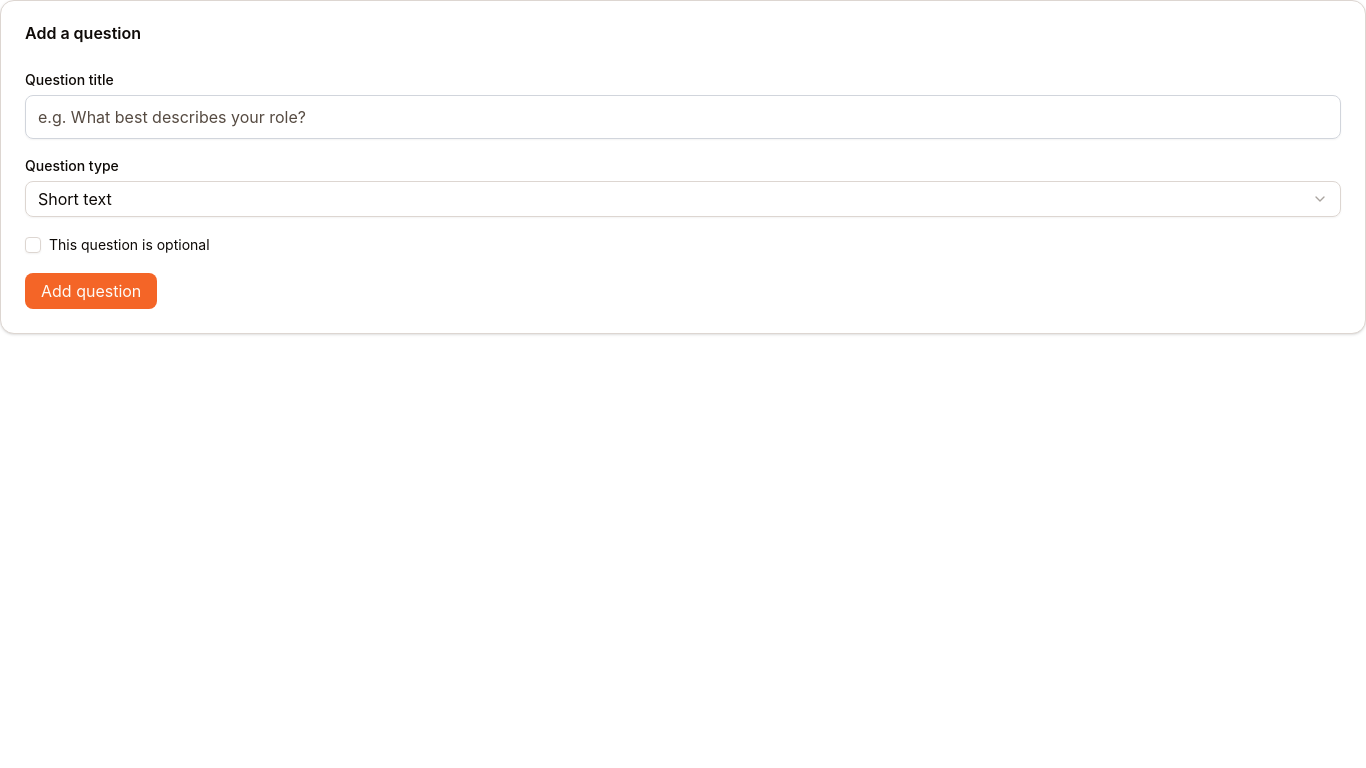
Test case: InteractiveQuestionForm › does not submit choice question with empty option
This screenshot has width=1366, height=768.
In the field labelled "Question title": coordinates (683, 117) [25,95,1341,139], type "Favorite color?"
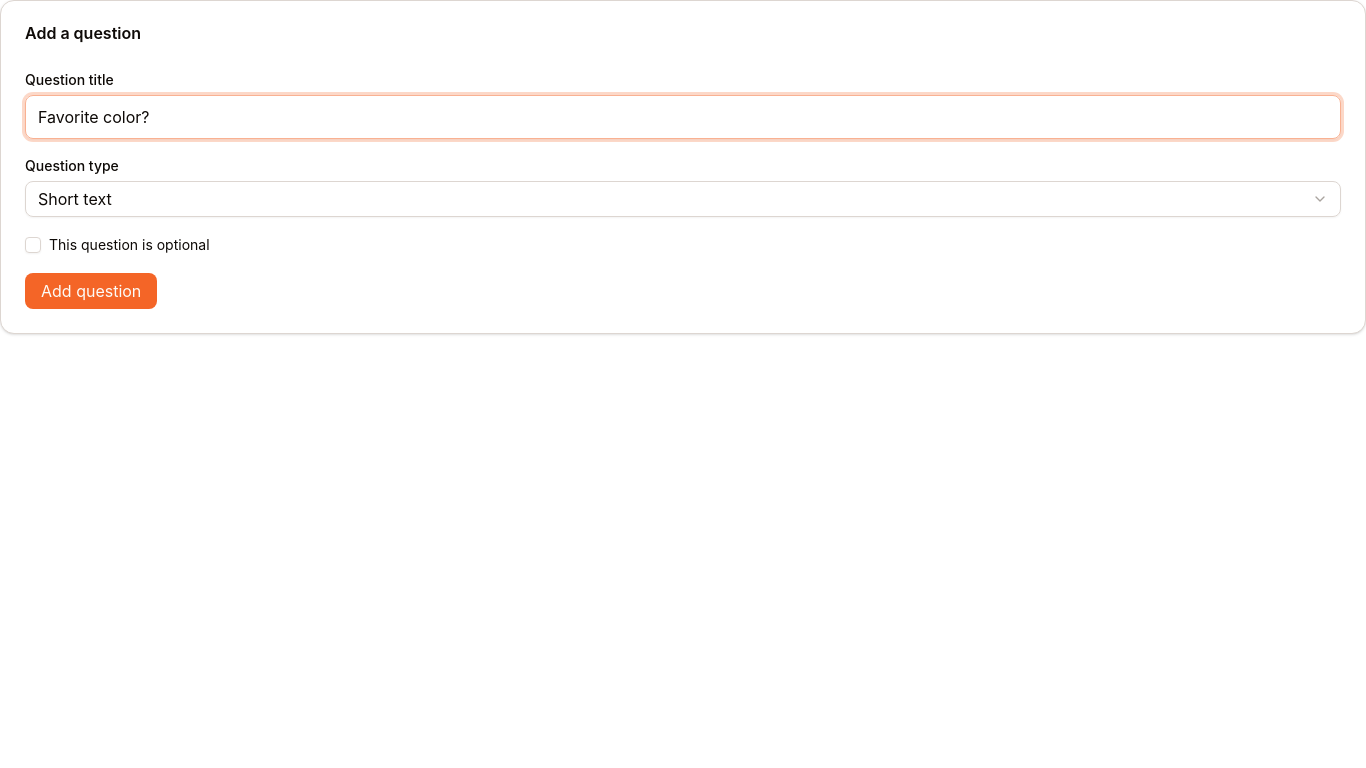
Click the dropdown named "question type": coordinates (75, 199) [25,181,1341,217]
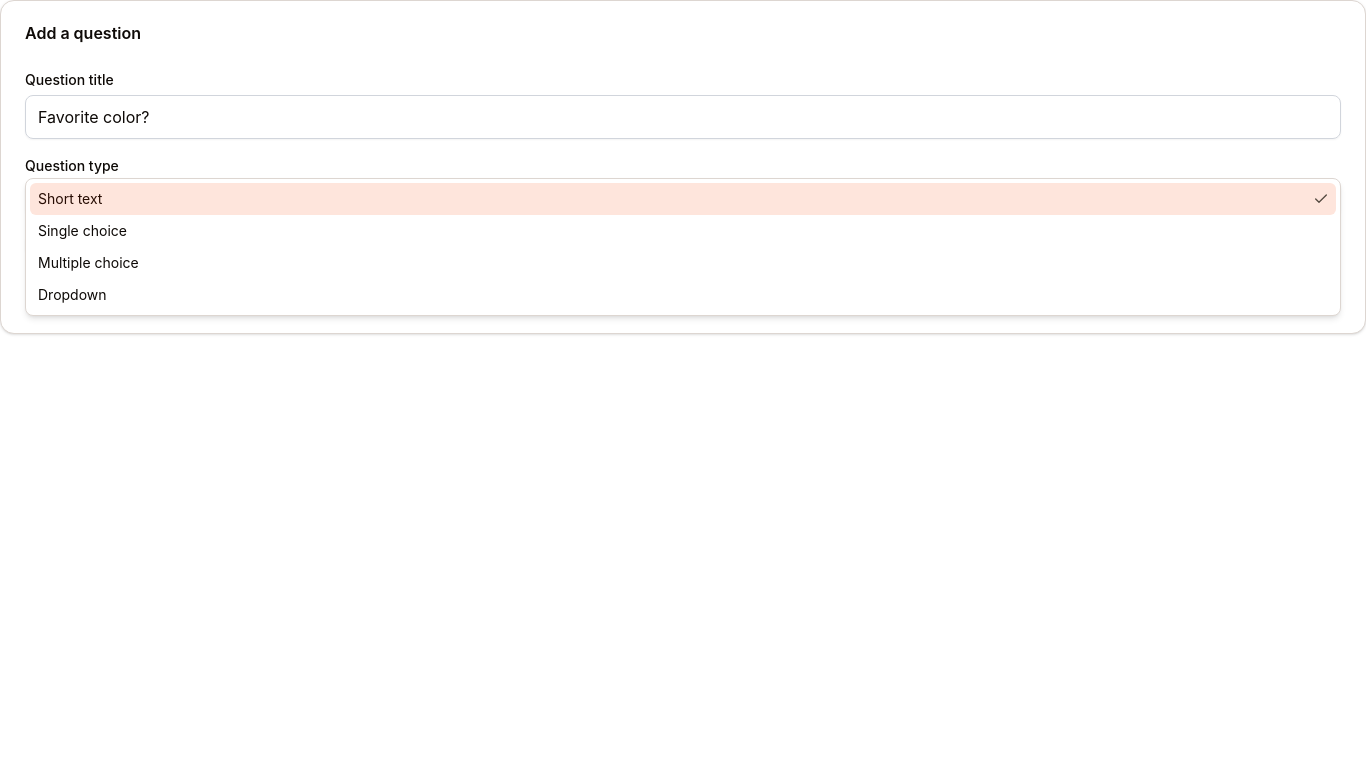
Click the option "Single choice": coordinates (82, 230) [38,222,127,239]
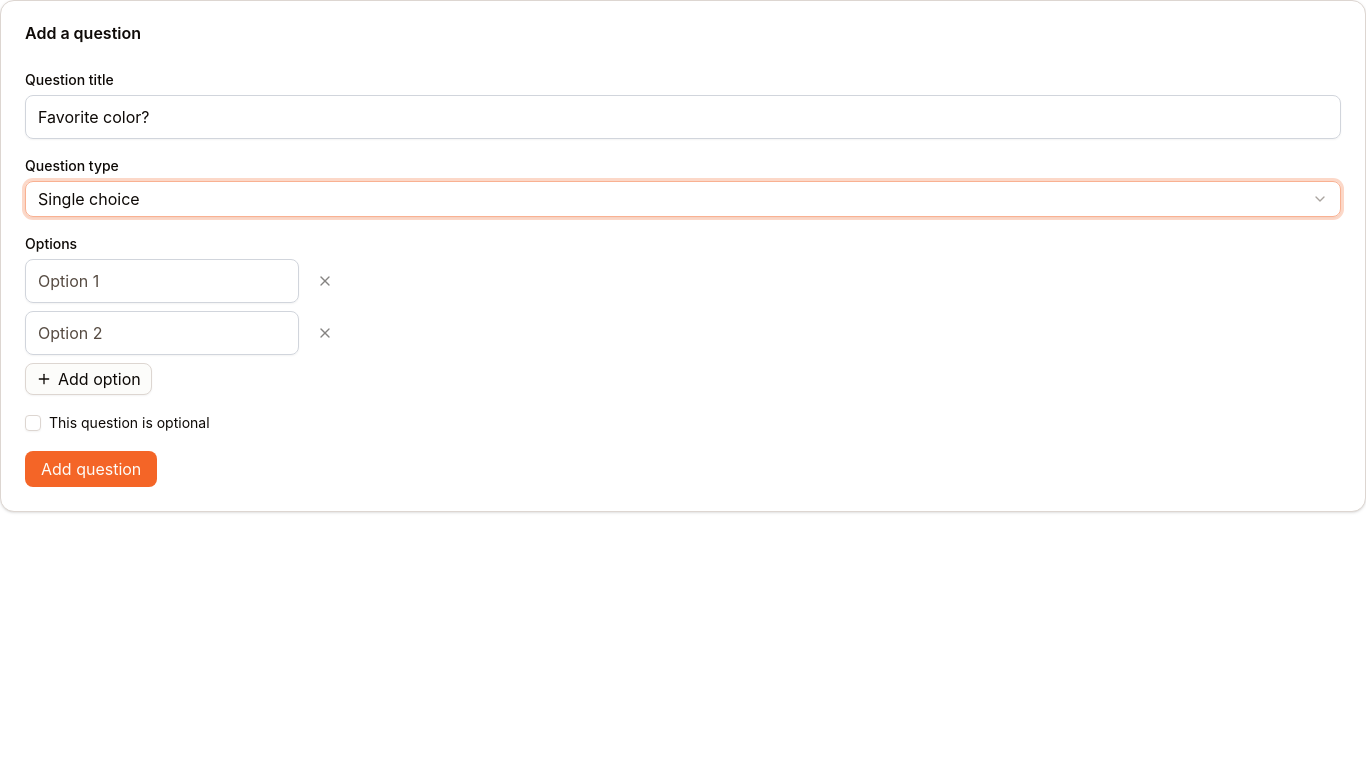
In the field with placeholder "Option 1": coordinates (162, 281) [25,259,299,303], type "Red"
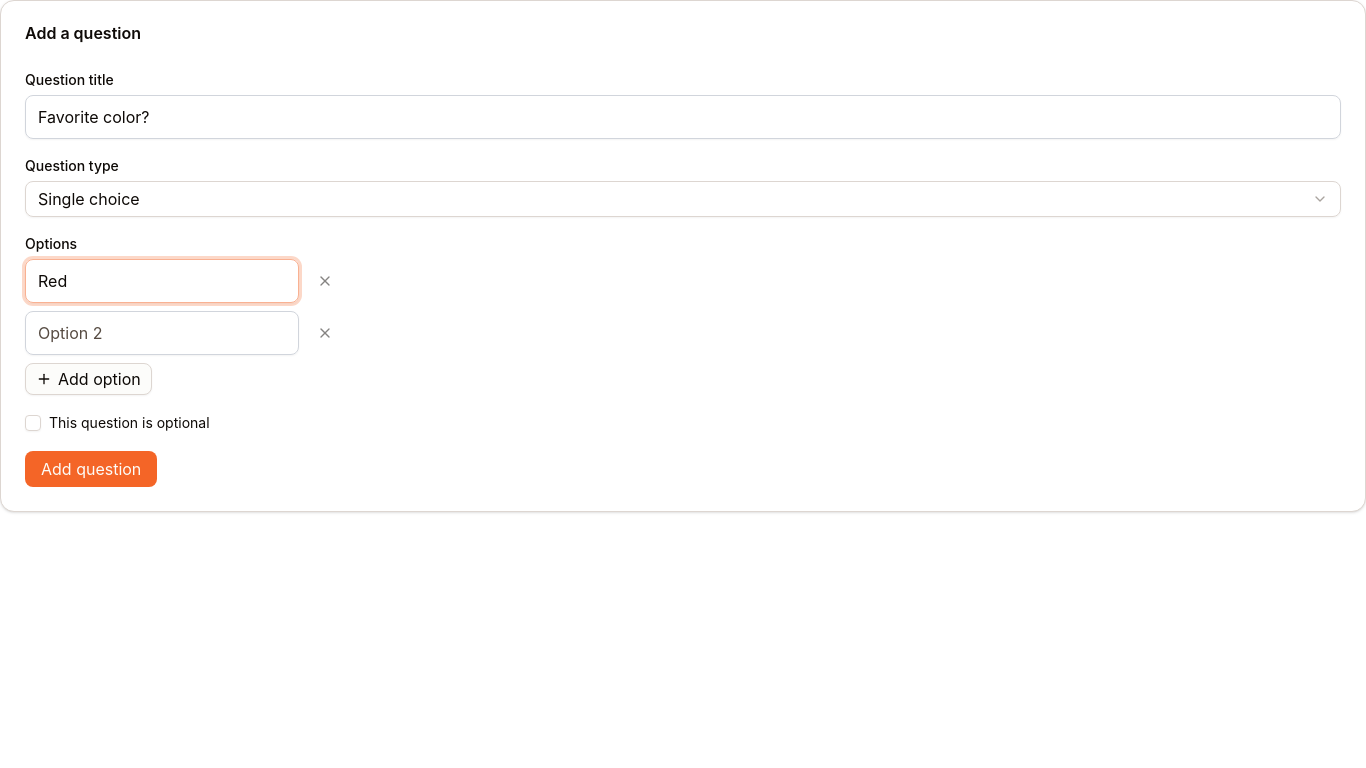
Click the button "Add question": coordinates (91, 469) [25,451,157,487]
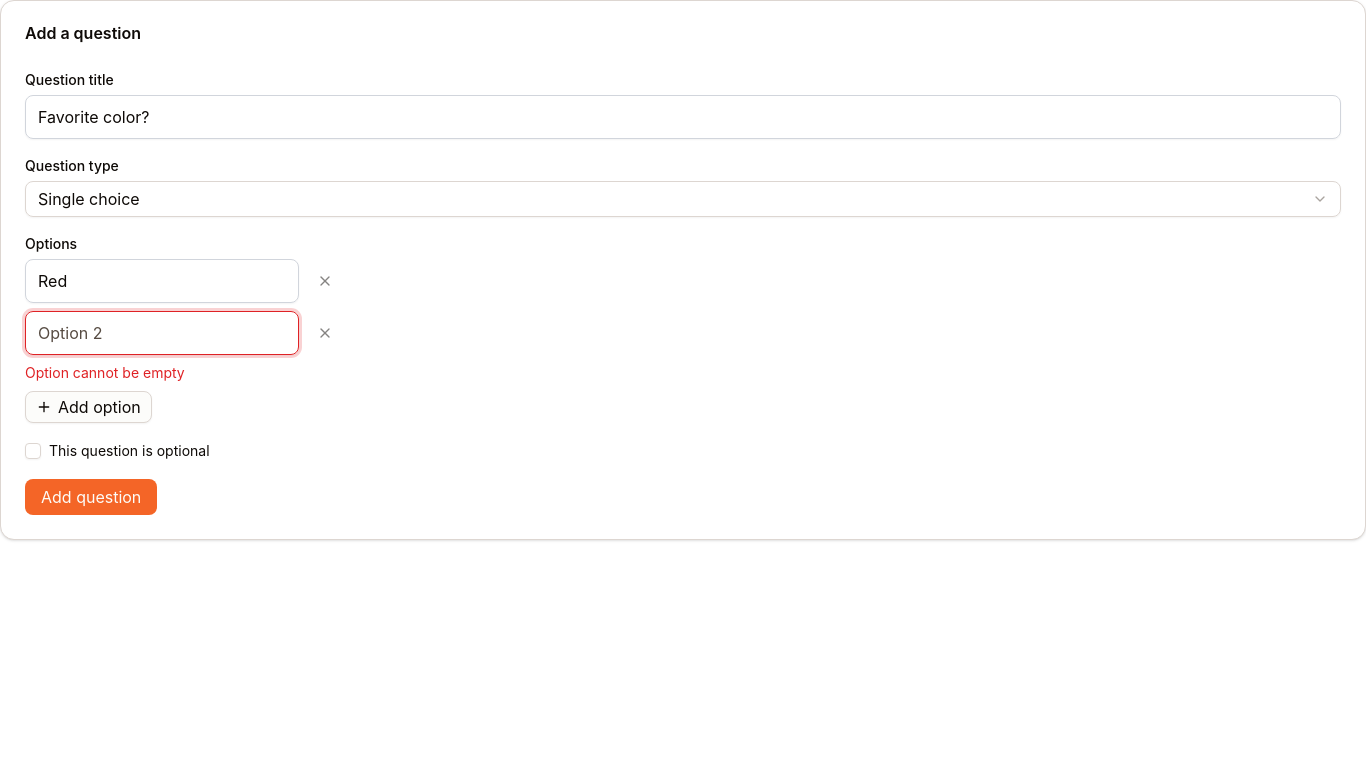
Now the text "Option cannot be empty" is shown, box [25,364,185,381]
